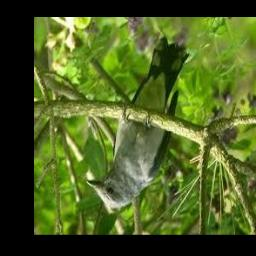Cuckoo: (86, 37, 189, 208)
